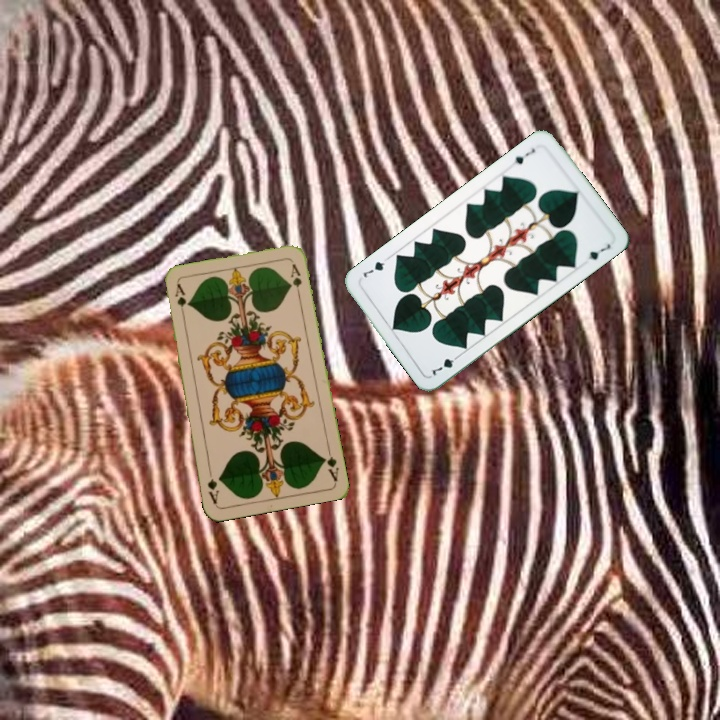G7: (426, 350, 463, 378), (510, 144, 538, 167)
GA: (319, 443, 341, 484), (171, 279, 188, 320)
